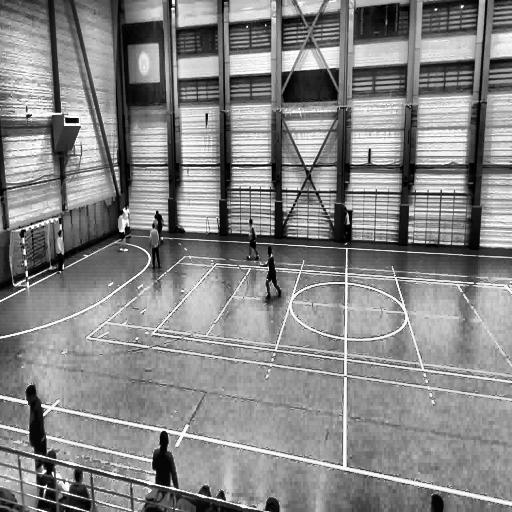ball: (160, 236, 165, 244)
player: (27, 386, 47, 479), (261, 244, 280, 298), (150, 219, 161, 268), (341, 204, 353, 248), (118, 210, 129, 255), (247, 219, 258, 260), (155, 210, 166, 246), (56, 230, 64, 274), (122, 204, 132, 239)
